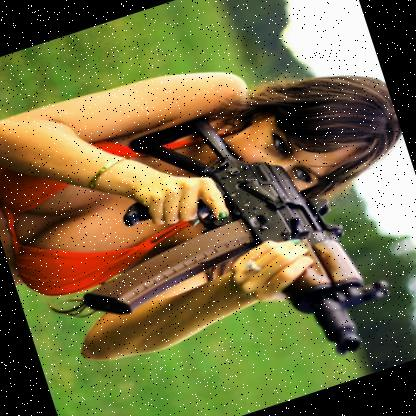rifle: (33, 77, 387, 416)
